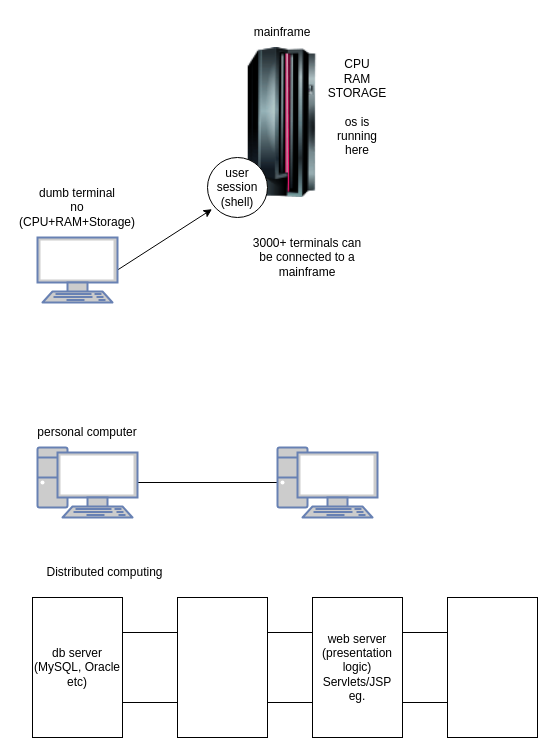
Image size: 555x755. Some labels were removed from this diagram. Here are the shapes that lost their labels. From the top down, the centre of each, then its label:
At (x=222, y=667): "app server (business logic) EJB e.g.".
At (x=492, y=667): "client machine (using a browser)".
